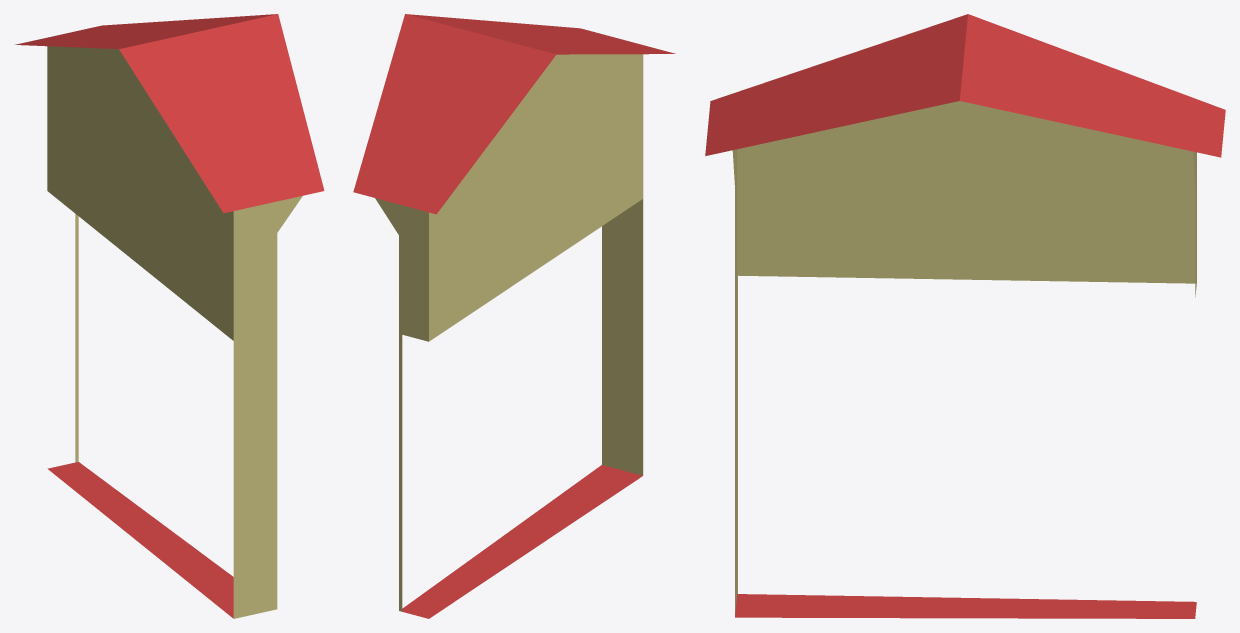
3 renders of one model, left to right at view 1: azimuth 30°, elevation 25°; view 2: azimuth 150°, elevation 25°; view 3: azimuth 270°, elevation 25°, orthographic. The views are drawn at different scales.
Parts seen in each view (by area): view 1: group_5, group_3, group_6, group_4; view 2: group_5, group_3, group_6, group_4; view 3: group_5, group_3, group_6, group_4.
Boxes of the visible parts, x1=… form: group_5: x1=47, y1=46, x2=302, y2=618; group_3: x1=15, y1=14, x2=324, y2=213; group_6: x1=47, y1=462, x2=233, y2=618; group_4: x1=22, y1=25, x2=323, y2=211; group_5: x1=375, y1=54, x2=643, y2=611; group_3: x1=353, y1=14, x2=675, y2=214; group_6: x1=402, y1=465, x2=642, y2=618; group_4: x1=354, y1=28, x2=669, y2=210; group_5: x1=732, y1=101, x2=1196, y2=614; group_3: x1=705, y1=14, x2=1225, y2=157; group_6: x1=735, y1=594, x2=1196, y2=618; group_4: x1=709, y1=37, x2=1224, y2=156.
Bounding box in the file's own units: 5.82 × 14.02 × 17.
